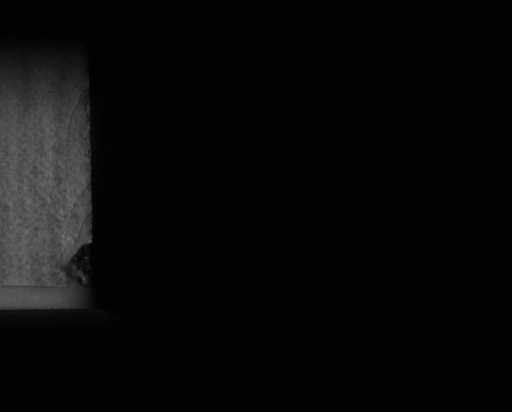bengque: (60, 242, 92, 289)
